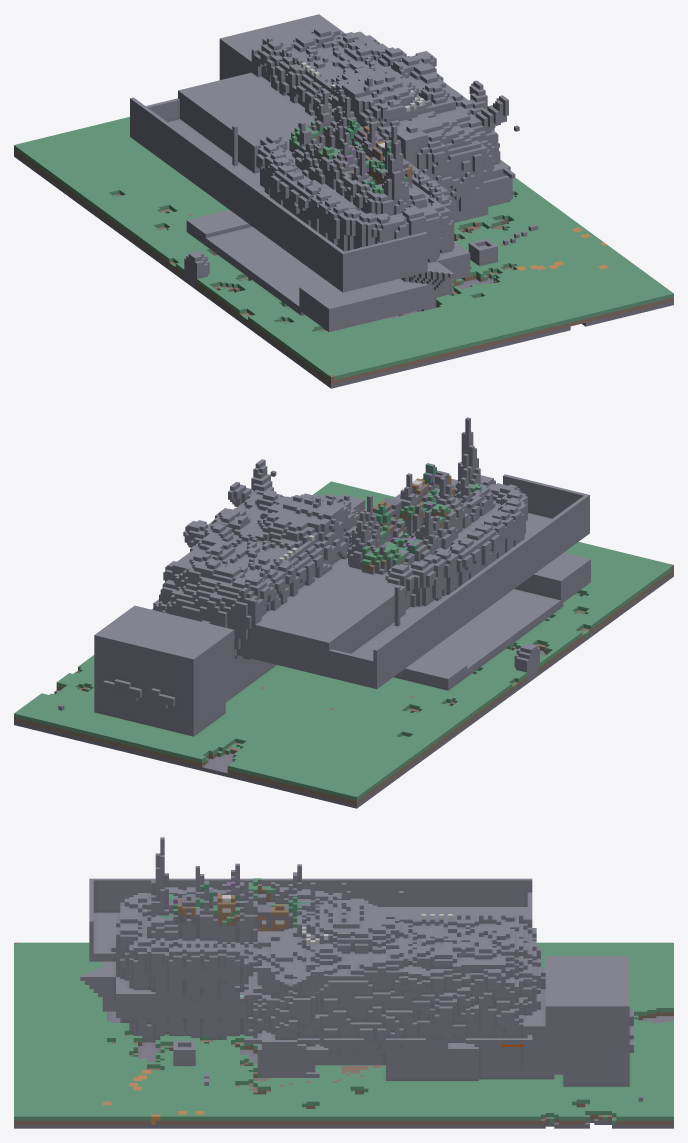
File: caves.glb
3 renders of one model, top to bottom at view 1: azimuth 30°, elevation 25°; view 2: azimuth 150°, elevation 25°; view 3: azimuth 270°, elevation 25°, orthographic. The views are drawn at different scales.
Visible parts, largest first — view 1: geometry_0; view 2: geometry_0; view 3: geometry_0.
Part boxes in pixels (<box>): geometry_0: <box>14,14,673,388</box>; geometry_0: <box>14,417,673,808</box>; geometry_0: <box>14,837,673,1128</box>.
Bounding box in the file's own units: 93 × 46 × 149.
